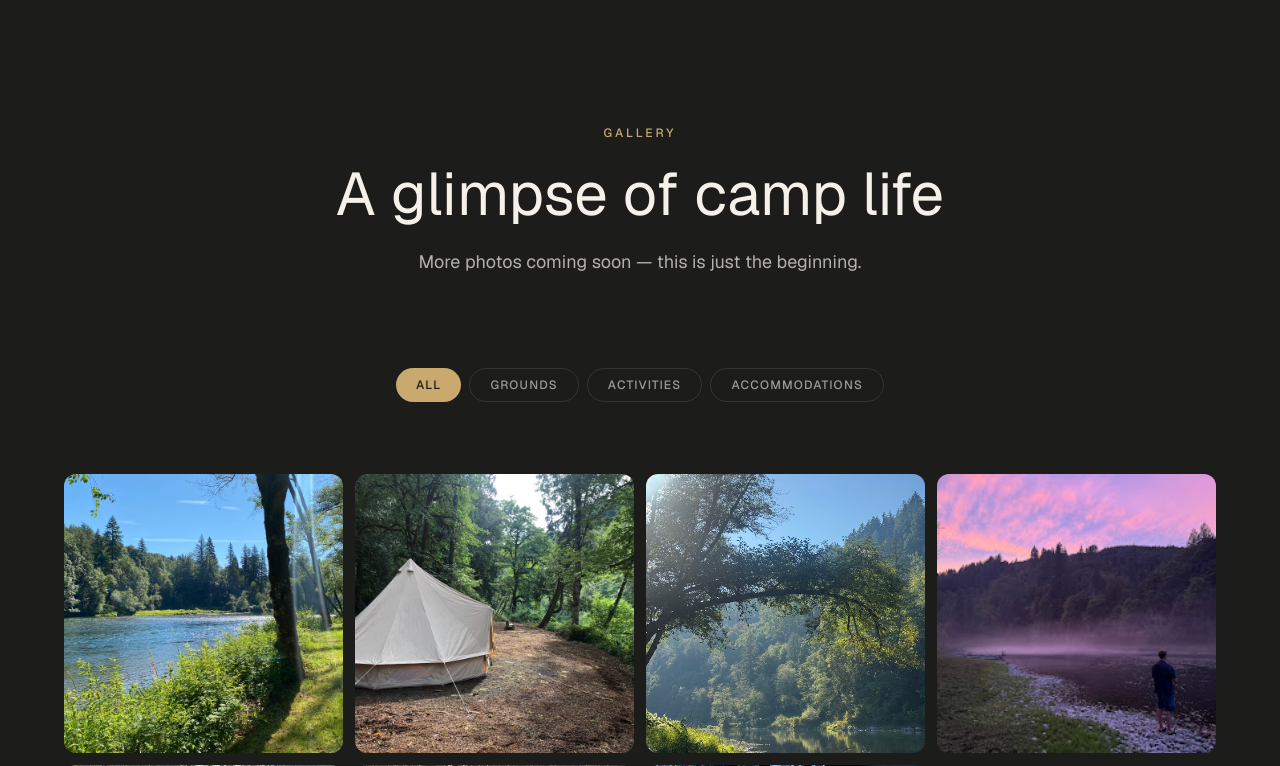
it: Gallery page › filters photos by category
Click the button "Activities" at coordinates (645, 385), box [587, 368, 702, 402]
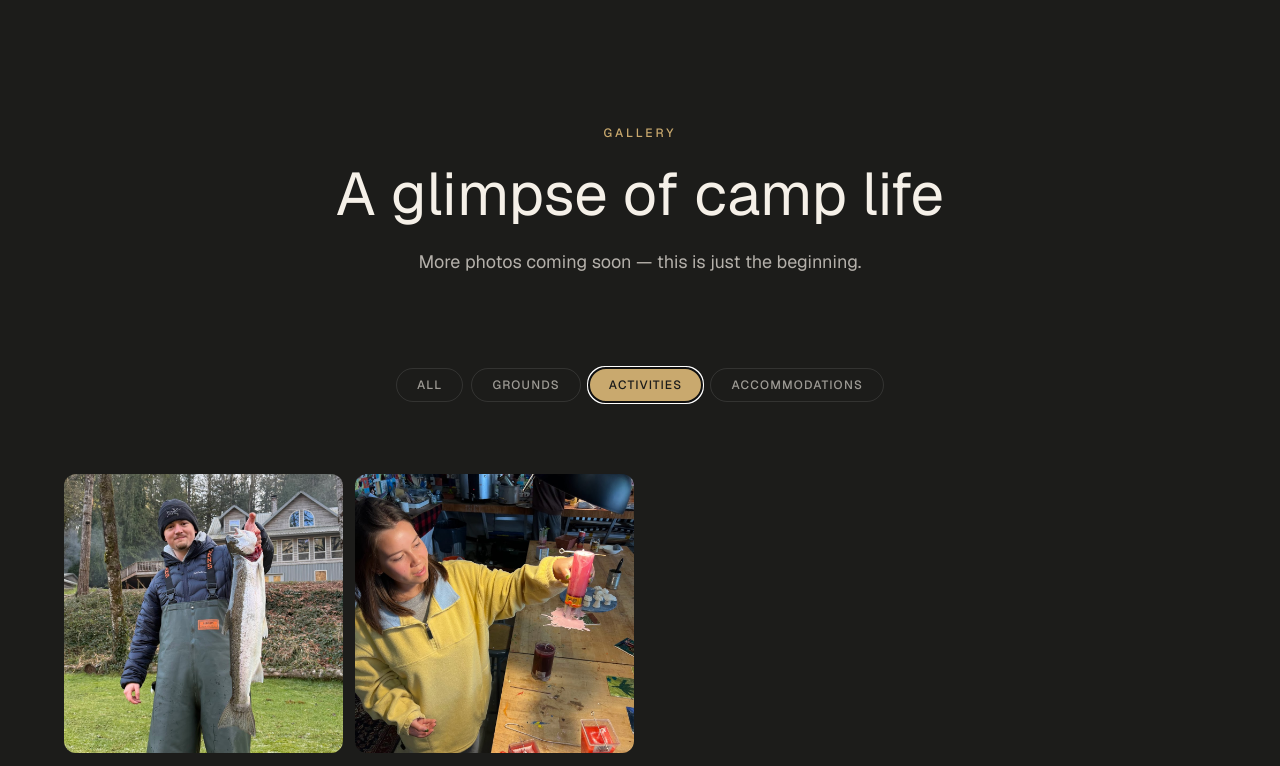
Expected: the number of pictures is 2, [64, 474, 343, 753]; [355, 474, 634, 753]
